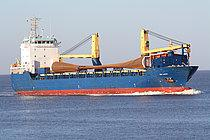Ship: (9, 13, 202, 97)
